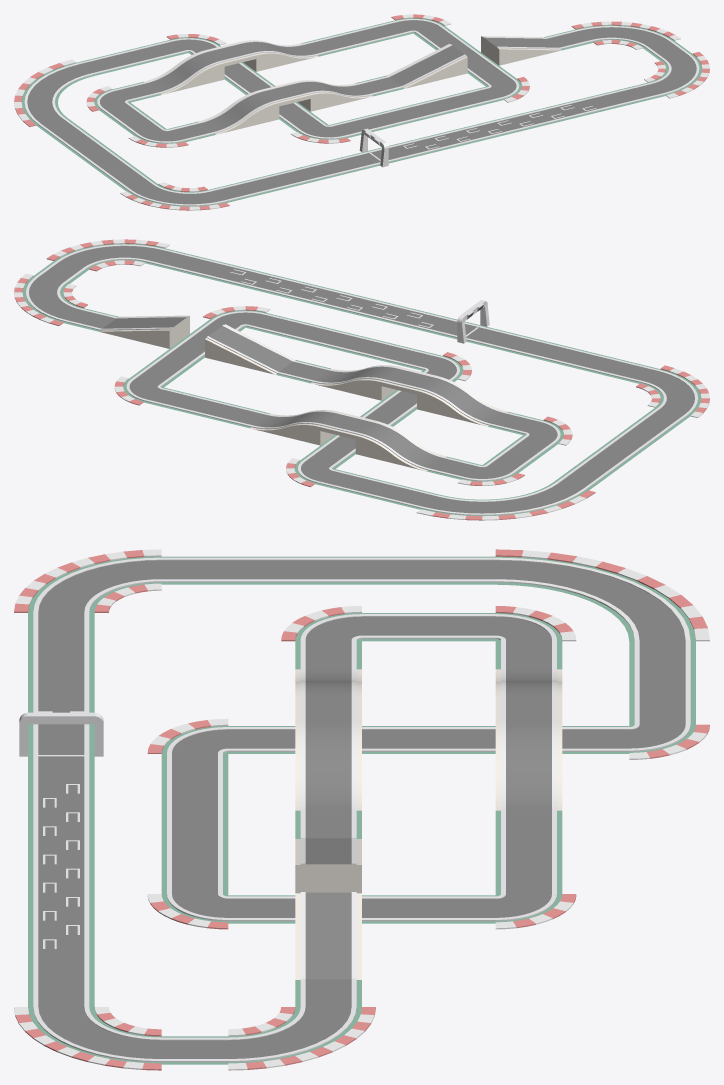
File: kenny_track1.glb
The picture shows the model from 3 angles, top to bottom: view 1: azimuth 30°, elevation 25°; view 2: azimuth 150°, elevation 25°; view 3: azimuth 270°, elevation 25°; orthographic projection. The views are drawn at different scales.
Parts seen in each view (by area): view 1: roadCornerLarge(Clone).005; view 2: roadCornerLarge(Clone).005; view 3: roadCornerLarge(Clone).005.
Boxes of the visible parts, x1,y1,x2,y2 form: roadCornerLarge(Clone).005: [14, 14, 709, 210]; roadCornerLarge(Clone).005: [14, 239, 709, 520]; roadCornerLarge(Clone).005: [14, 549, 709, 1070].
Bounding box in the file's own units: 111 × 4.01 × 62.52.
